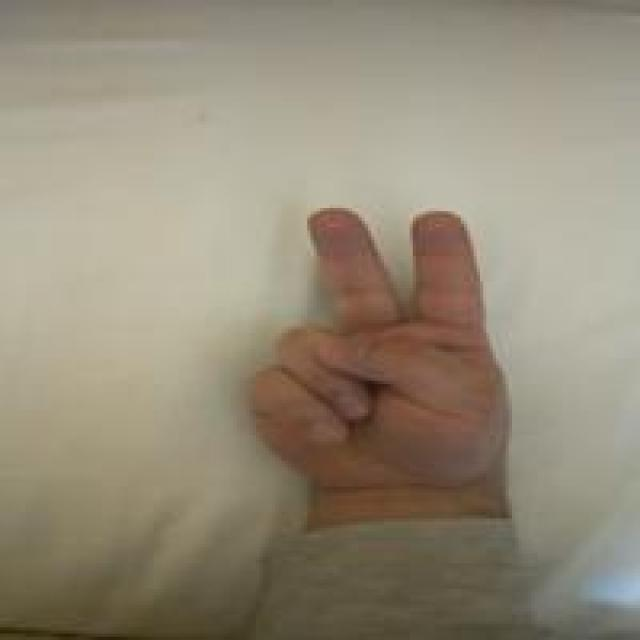V: (231, 182, 518, 509)
